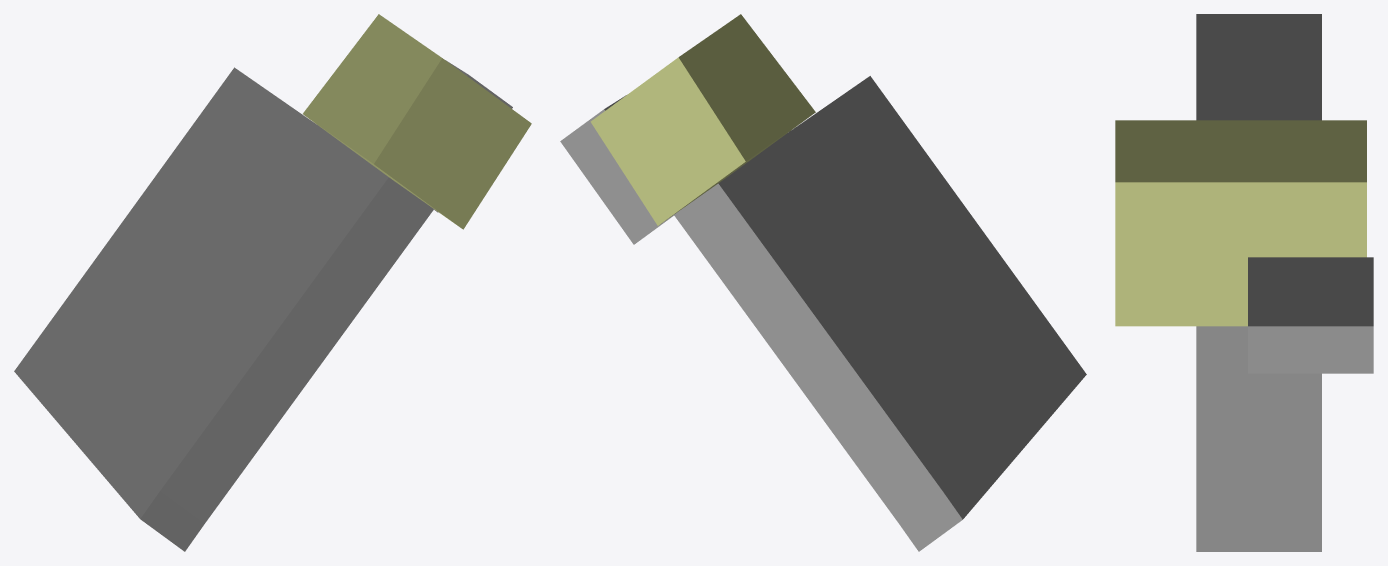
3 renders of one model, left to right at view 1: azimuth 30°, elevation 25°; view 2: azimuth 150°, elevation 25°; view 3: azimuth 270°, elevation 25°, orthographic. The views are drawn at different scales.
Visible parts, largest first — view 1: 0_2_3_2_2_0_2_1_3_0; view 2: 0_2_3_2_2_0_2_1_3_0; view 3: 0_2_3_2_2_0_2_1_3_0.
Boxes of the visible parts, left/top/right/bottom form: 0_2_3_2_2_0_2_1_3_0: left=14, top=14, right=531, bottom=551; 0_2_3_2_2_0_2_1_3_0: left=560, top=14, right=1086, bottom=551; 0_2_3_2_2_0_2_1_3_0: left=1115, top=14, right=1373, bottom=551.
Size of the model in its own units: 18.28 by 15.94 by 6.16.
